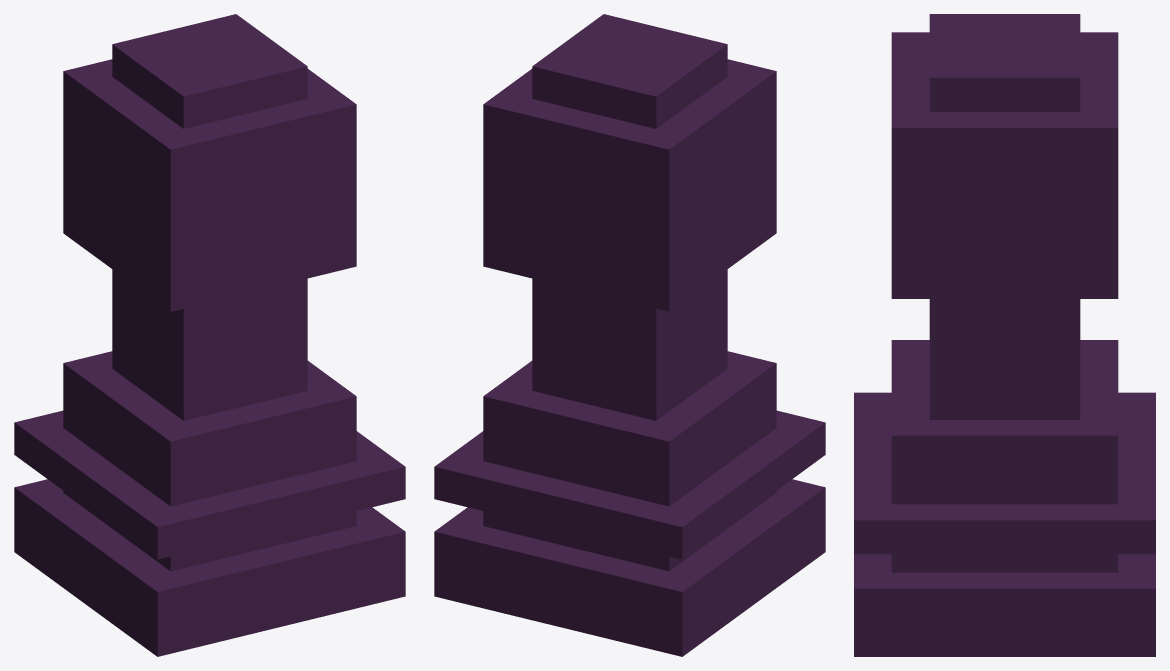
Rendered from token-v1-purple.gltf.
3 views of the same model, side by side, from view 1: azimuth 30°, elevation 25°; view 2: azimuth 150°, elevation 25°; view 3: azimuth 270°, elevation 25° (orthographic). The views are drawn at different scales.
Visible parts, largest first — view 1: Untitled; view 2: Untitled; view 3: Untitled.
Part boxes in pixels (bbox=[...]): Untitled: bbox=[14, 14, 405, 656]; Untitled: bbox=[434, 14, 825, 656]; Untitled: bbox=[854, 14, 1155, 656].
Bounding box in the file's own units: 0.8 × 1.6 × 0.8.
1 material, 1 textured.
